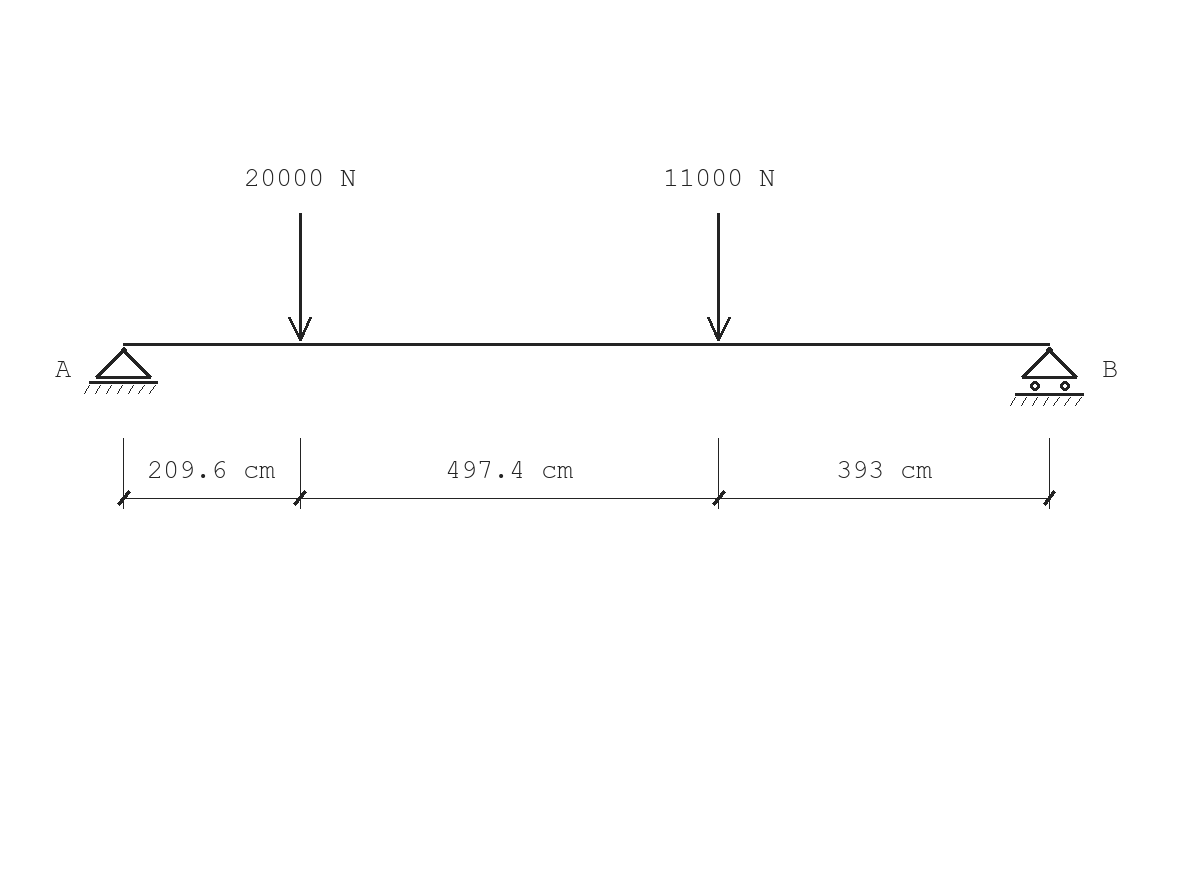pin_support: (84, 347, 158, 394)
point_load: (288, 213, 312, 341), (707, 213, 731, 341)
roller_support: (1010, 347, 1084, 406)
